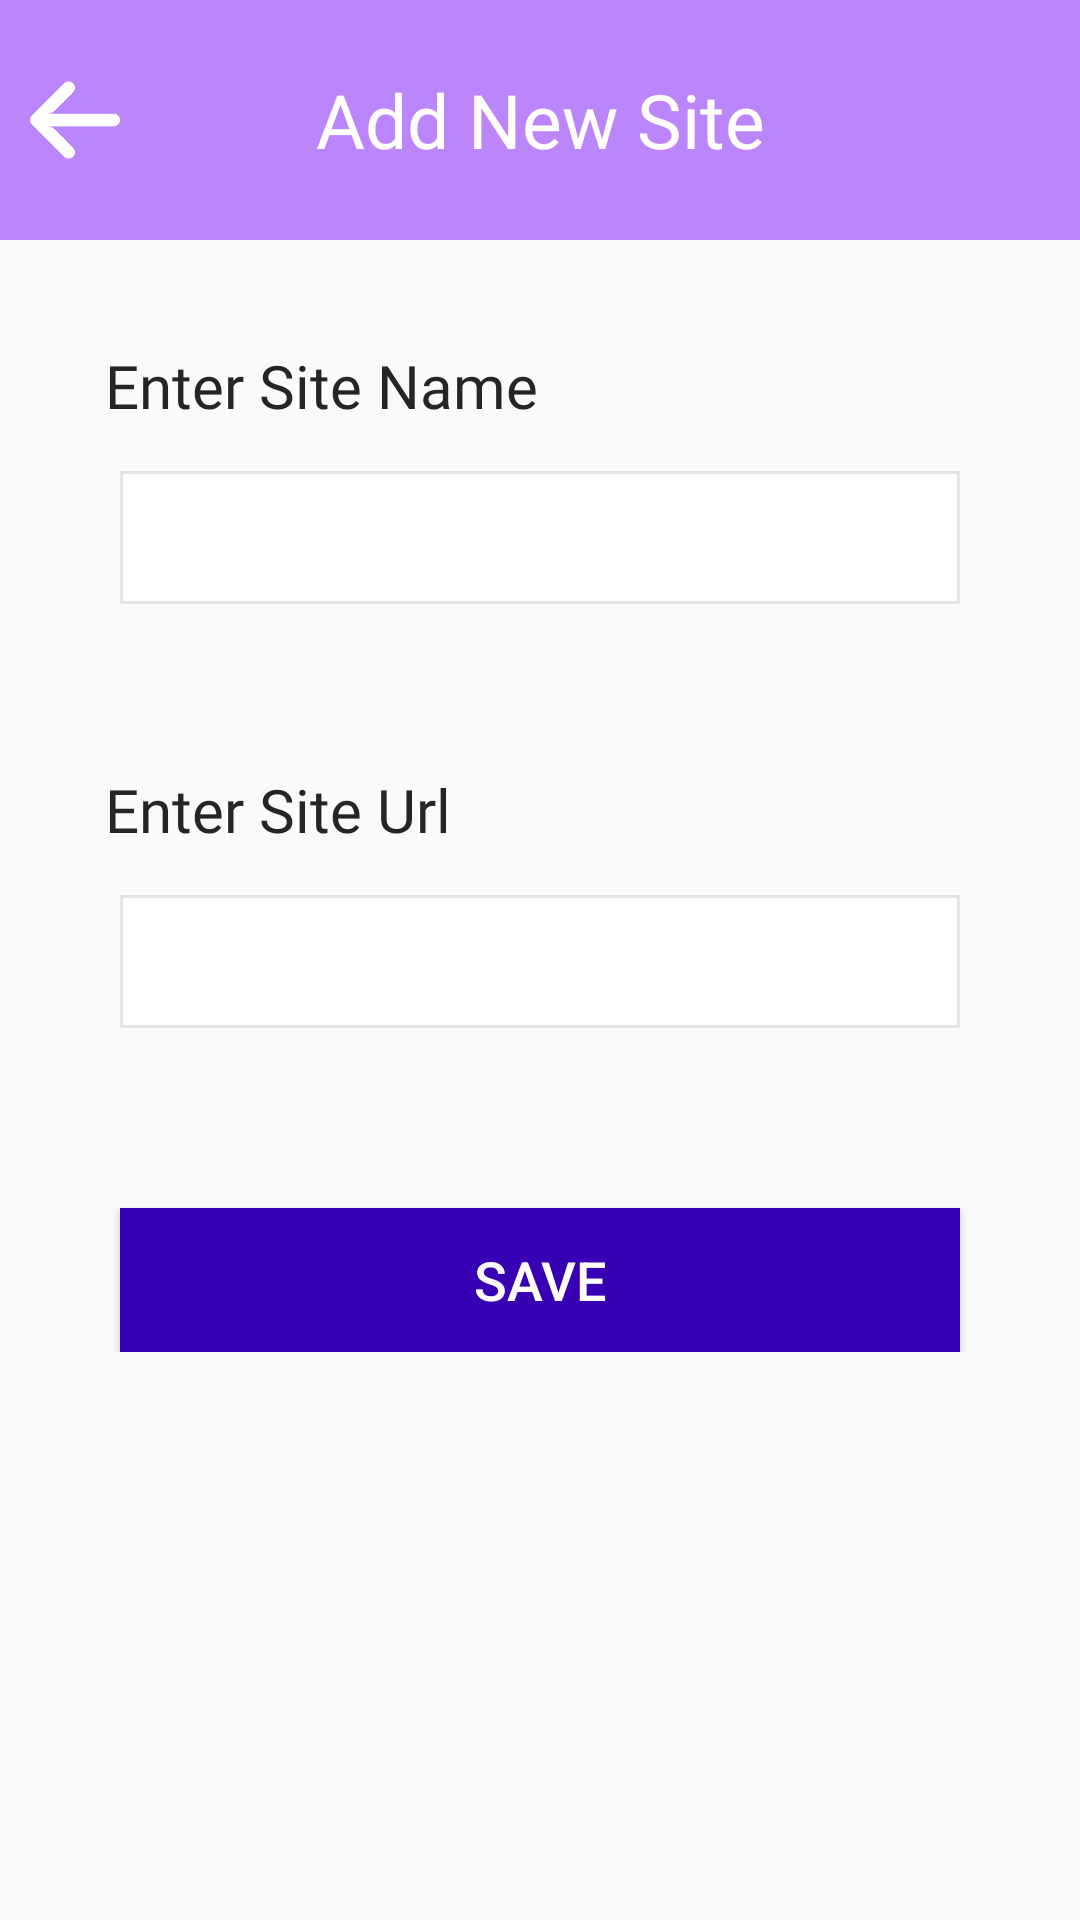

Named icons in this screenshot (1080w x 1920h) and their centers, (x=x, y=y):
arrow: (x=75, y=120)
